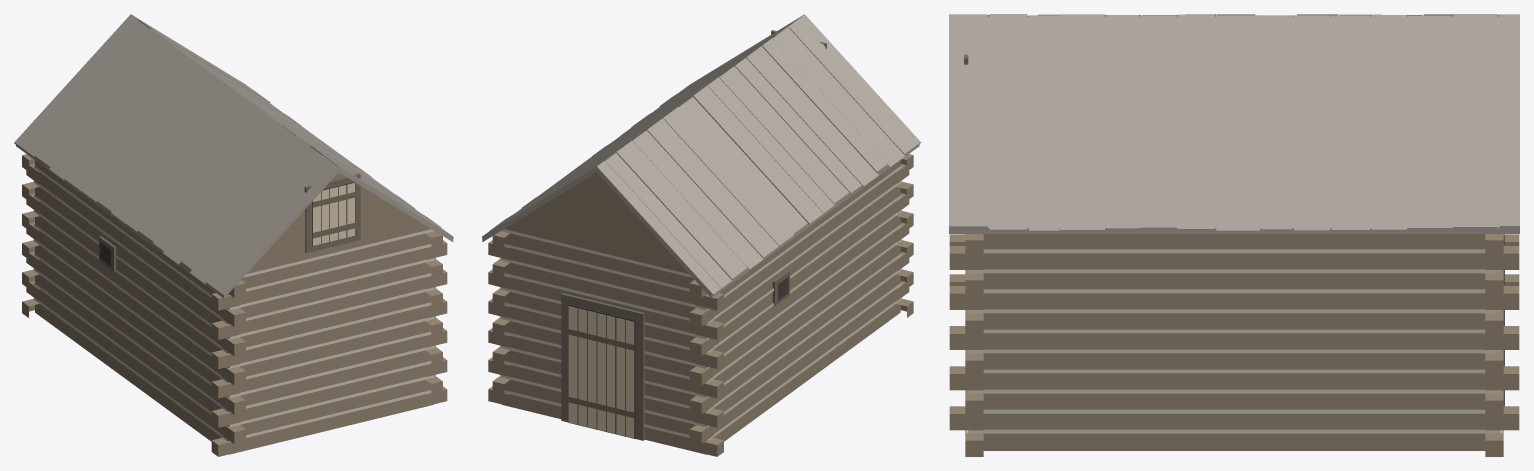
The model's file is recon_1835_blk_washington_clark_a1_03__inferred_1835.glb.
3 renders of one model, left to right at view 1: azimuth 30°, elevation 25°; view 2: azimuth 150°, elevation 25°; view 3: azimuth 270°, elevation 25°, orthographic. The views are drawn at different scales.
Visible parts, largest first — view 1: recon_1835_blk_washington_clark_a1_03__inferred_1835; view 2: recon_1835_blk_washington_clark_a1_03__inferred_1835; view 3: recon_1835_blk_washington_clark_a1_03__inferred_1835.
Part boxes in pixels (x1,y1,x2,y2): recon_1835_blk_washington_clark_a1_03__inferred_1835: (14,14,453,456); recon_1835_blk_washington_clark_a1_03__inferred_1835: (482,14,920,456); recon_1835_blk_washington_clark_a1_03__inferred_1835: (949,14,1519,456).
Size of the model in its own units: 4.76 by 5.22 by 7.33.
